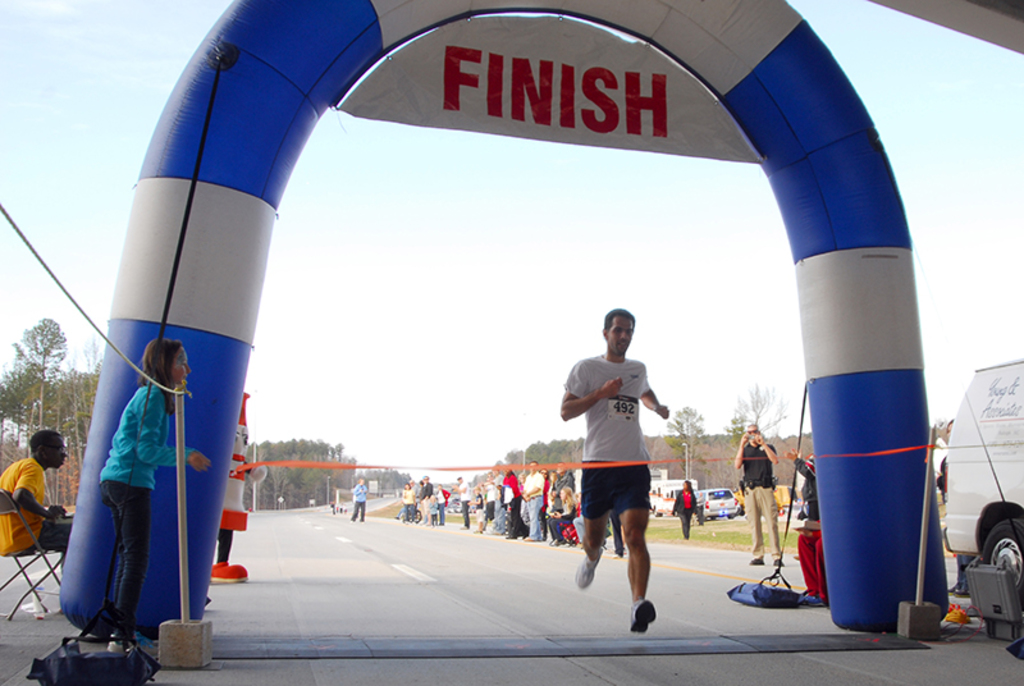Footwear: (108, 634, 161, 654), (580, 546, 605, 586), (634, 602, 654, 635), (806, 591, 823, 607), (773, 558, 781, 563), (751, 559, 764, 562)
